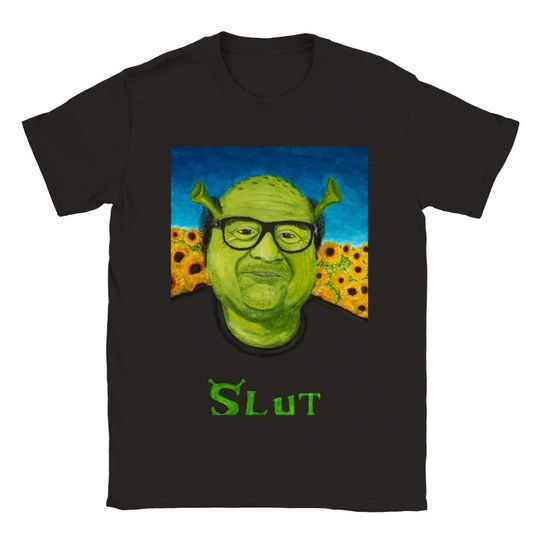design: (167, 138, 371, 420)
